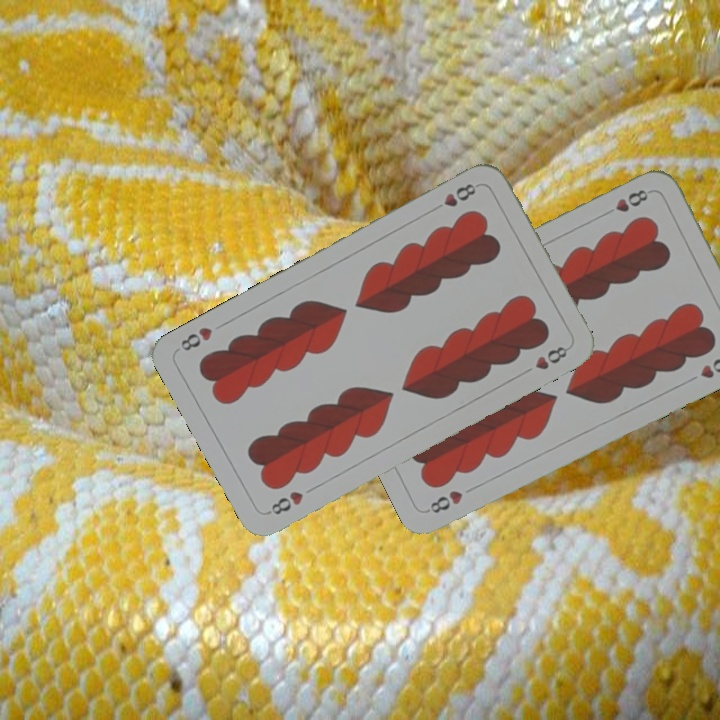H8: (428, 179, 479, 215), (263, 487, 306, 518), (423, 486, 466, 516), (611, 185, 651, 215)
